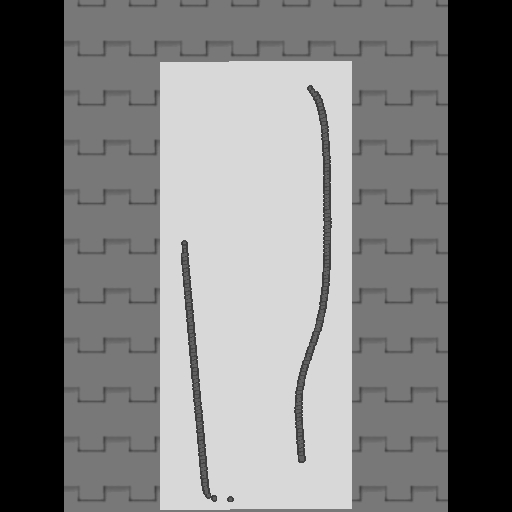Defect: (174, 75, 308, 244)
